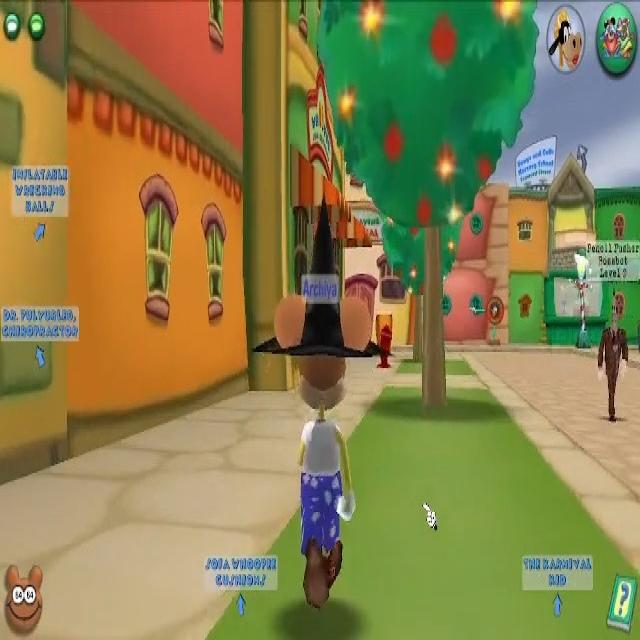pencilpusher: (586, 240, 639, 423)
